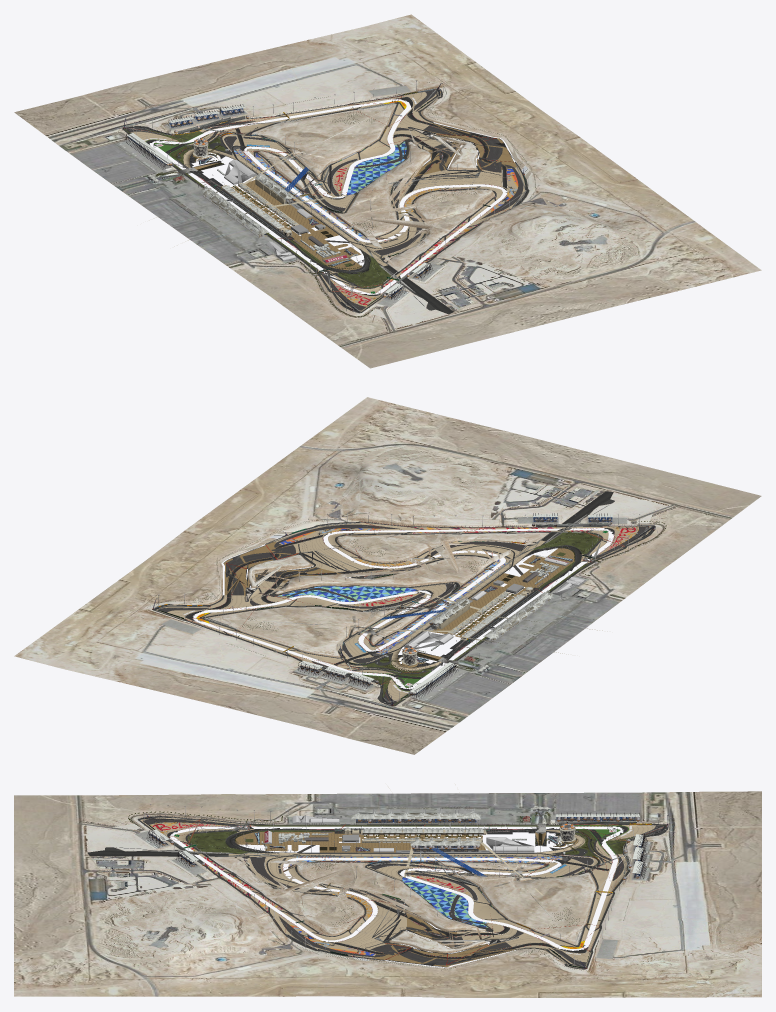
The model's file is bahrain.glb.
3 renders of one model, top to bottom at view 1: azimuth 30°, elevation 25°; view 2: azimuth 150°, elevation 25°; view 3: azimuth 270°, elevation 25°, orthographic. The views are drawn at different scales.
Visible parts, largest first — view 1: t_2_-3, t_1_3, t_-2_-2, t_-2_0, t_2_-2, t_-1_3, t_1_2, t_0_2, t_0_-3, t_2_-1, t_2_2, t_-2_2 (+31 smaller); view 2: t_2_-3, t_1_3, t_-2_-2, t_0_2, t_2_-2, t_-2_0, t_2_2, t_-1_3, t_2_0, t_2_-1, t_0_-1, t_0_-3 (+31 smaller); view 3: t_2_-3, t_1_3, t_2_2, t_2_-2, t_-2_-2, t_0_-3, t_-1_3, t_2_-1, t_-2_0, t_2_0, t_-1_1, t_0_2 (+31 smaller).
Boxes of the visible parts, <box> form: t_2_-3: <box>281,14,468,90</box>; t_1_3: <box>530,186,714,307</box>; t_-2_-2: <box>69,141,208,198</box>; t_-2_0: <box>174,192,301,272</box>; t_2_-2: <box>395,57,512,123</box>; t_-1_3: <box>386,282,546,344</box>; t_1_2: <box>494,214,645,267</box>; t_0_2: <box>423,233,559,291</box>; t_0_-3: <box>219,60,332,125</box>; t_2_-1: <box>437,89,580,152</box>; t_2_2: <box>547,186,702,251</box>; t_-2_2: <box>270,269,387,327</box>; t_2_-3: <box>14,612,192,687</box>; t_1_3: <box>308,409,520,522</box>; t_-2_-2: <box>403,646,530,715</box>; t_0_2: <box>424,476,546,531</box>; t_2_-2: <box>73,573,213,624</box>; t_-2_0: <box>477,582,630,638</box>; t_2_2: <box>269,440,409,517</box>; t_-1_3: <box>545,451,672,518</box>; t_2_0: <box>185,502,306,560</box>; t_2_-1: <box>117,530,257,596</box>; t_0_-1: <box>289,569,453,634</box>; t_0_-3: <box>205,636,322,702</box>; t_2_-3: <box>607,929,761,997</box>; t_1_3: <box>14,905,316,972</box>; t_2_2: <box>118,944,310,996</box>; t_2_-2: <box>482,947,638,997</box>; t_-2_-2: <box>512,792,646,836</box>; t_0_-3: <box>607,866,760,919</box>; t_-1_3: <box>14,825,148,885</box>; t_2_-1: <box>400,948,550,997</box>; t_-2_0: <box>295,787,449,834</box>; t_2_0: <box>313,952,445,996</box>; t_-1_1: <box>208,830,353,893</box>; t_0_2: <box>110,866,241,922</box>.
Bounding box in the file's own units: 1361 × 102 × 1975.
Materials: 282 (282 with a texture image).
